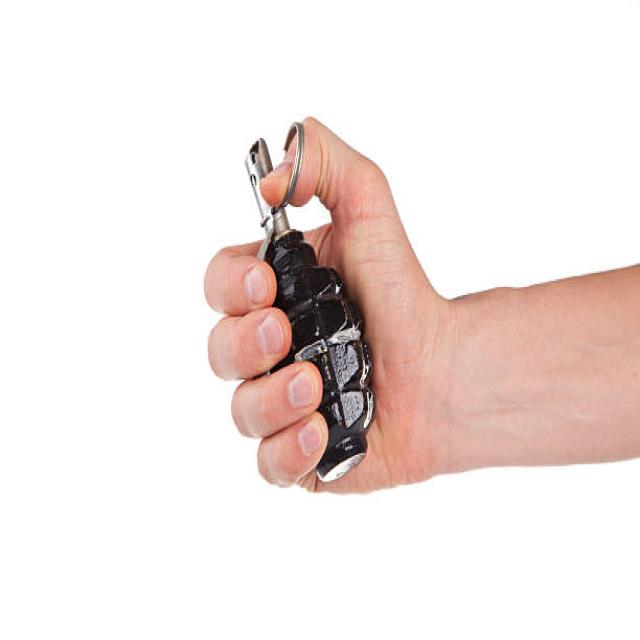grenade: (237, 115, 381, 487)
